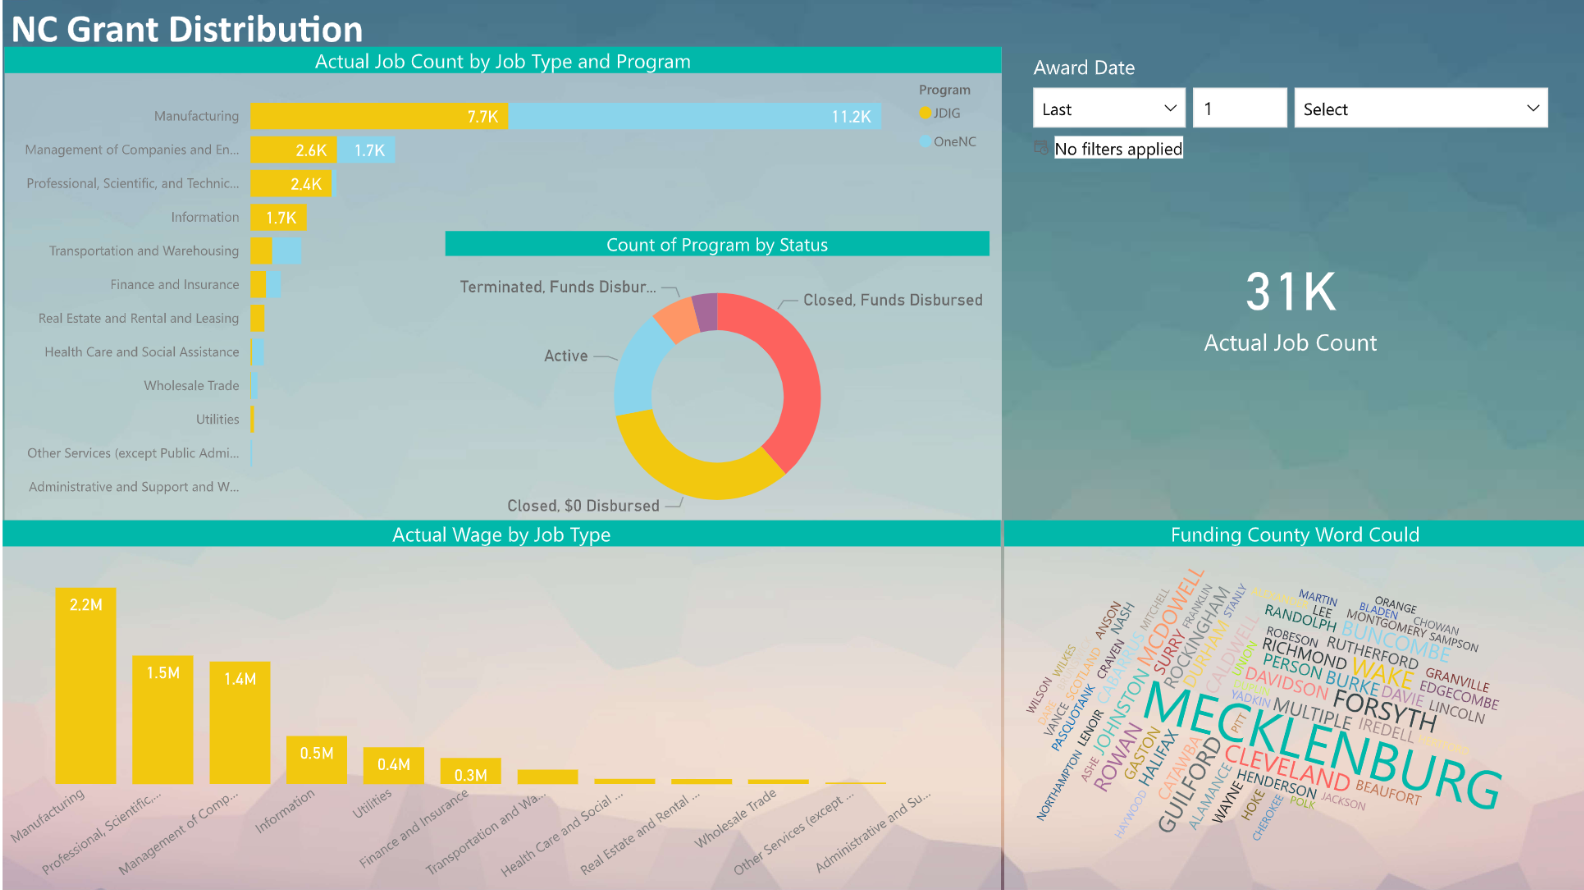

What the dashboard file says about the page in this screenshot:
{"tool":"powerbi","page":{"name":"NC Grant DB","canvas":[1280,720],"ordinal":0},"visuals":[{"type":"barChart","fields":{"Category":["Grants.Job Type"],"Series":["Grants.Program"],"Y":["Sum(Grants.Actual Job Count)"]},"box":[1.2,39.6,806.4,381.6],"z":0},{"type":"textbox","box":[1.2,0,379.5,62],"z":1000},{"type":"columnChart","fields":{"Category":["Grants.Job Type"],"Y":["Sum(Grants.Actual Wage)"]},"box":[0,421.3,806.8,299],"z":2000},{"type":"donutChart","fields":{"Category":["Grants.Status"],"Y":["CountNonNull(Grants.Program)"]},"box":[358.3,187.8,439.8,247.1],"z":3000},{"type":"WordCloud1447959067750","title":"Funding County Word Could","fields":{"Category":["Grants.Funding County"],"Values":["CountNonNull(Grants.Funding ID)"]},"box":[809.3,421.3,470.7,299],"z":4000},{"type":"card","fields":{"Values":["Sum(Grants.Actual Job Count)"]},"box":[801.9,105,478.1,279.2],"z":5000},{"type":"slicer","fields":{"Values":["Grants.Award Date"]},"box":[820.4,39.5,442.3,129.7],"z":6000}]}

Visuals, with their boxes in screenshot pixels (x1, y1, x2, y2), scaled from the page's 1280x720 canvas onto the 1584x890 screenshot:
barChart - Grants.Job Type x Grants.Program: detection(1, 49, 999, 521)
textbox: detection(1, 0, 471, 77)
columnChart - Grants.Job Type x Sum(Grants.Actual Wage): detection(0, 521, 998, 889)
donutChart - Grants.Status x CountNonNull(Grants.Program): detection(443, 232, 988, 538)
"Funding County Word Could" WordCloud1447959067750: detection(1002, 521, 1583, 889)
card - Sum(Grants.Actual Job Count): detection(992, 130, 1583, 475)
slicer - Grants.Award Date: detection(1015, 49, 1563, 209)
